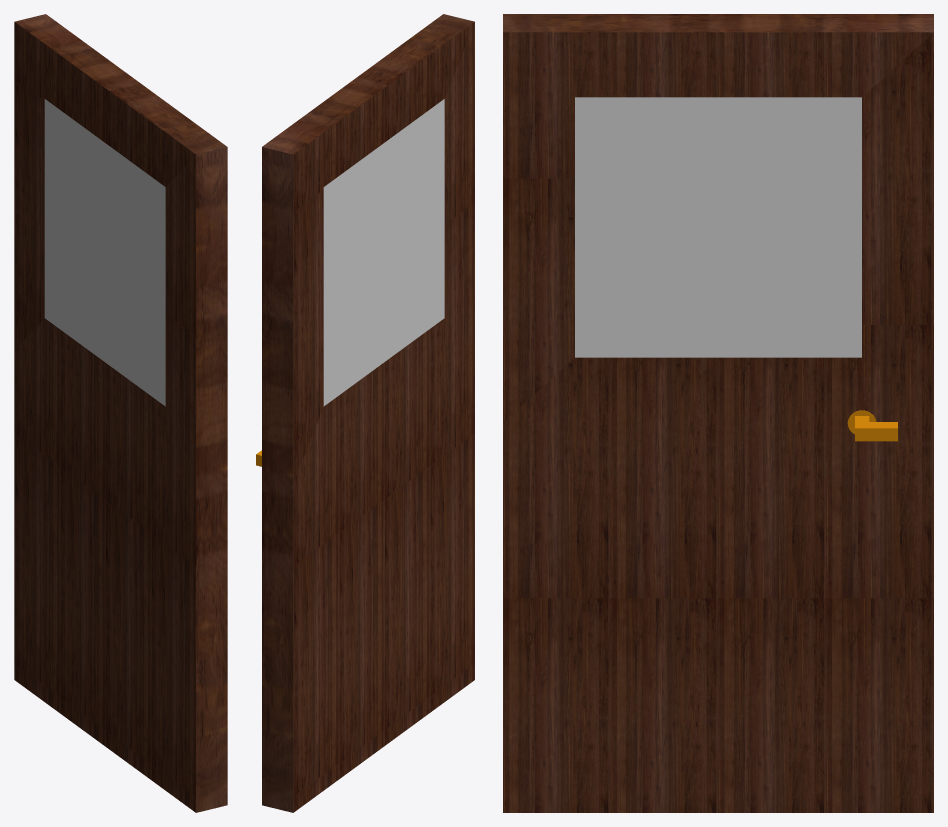
The model's file is Door.fbx.
3 renders of one model, left to right at view 1: azimuth 30°, elevation 25°; view 2: azimuth 150°, elevation 25°; view 3: azimuth 270°, elevation 25°, orthographic. The views are drawn at different scales.
Visible parts, largest first — view 1: Cube; view 2: Cube; view 3: Cube.
Boxes of the visible parts, x1,y1,x2,y2 form: Cube: (14,14,227,812); Cube: (256,14,474,812); Cube: (503,14,933,812).
Bounding box in the file's own units: 50 × 600 × 300.
